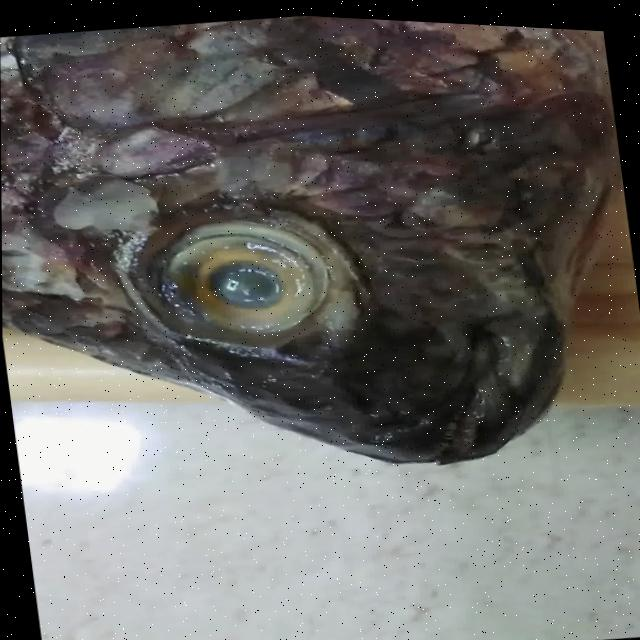Non-Fresh: (109, 173, 363, 387)
